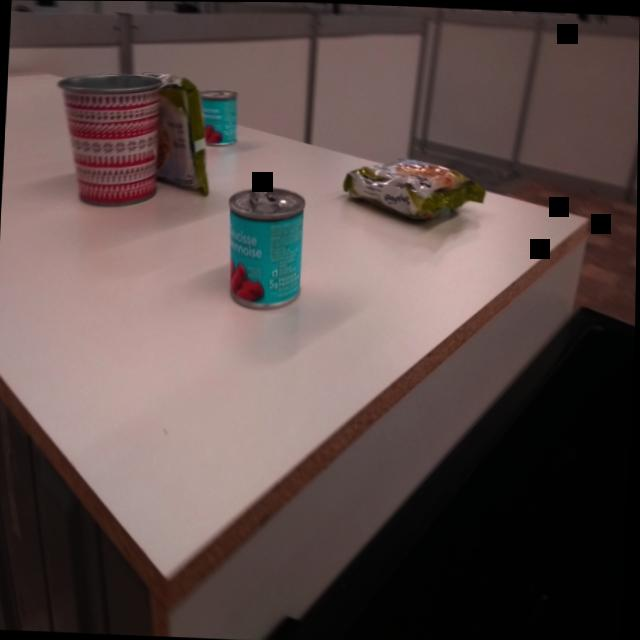noodles: (337, 145, 495, 231)
sausages: (221, 182, 311, 313)
